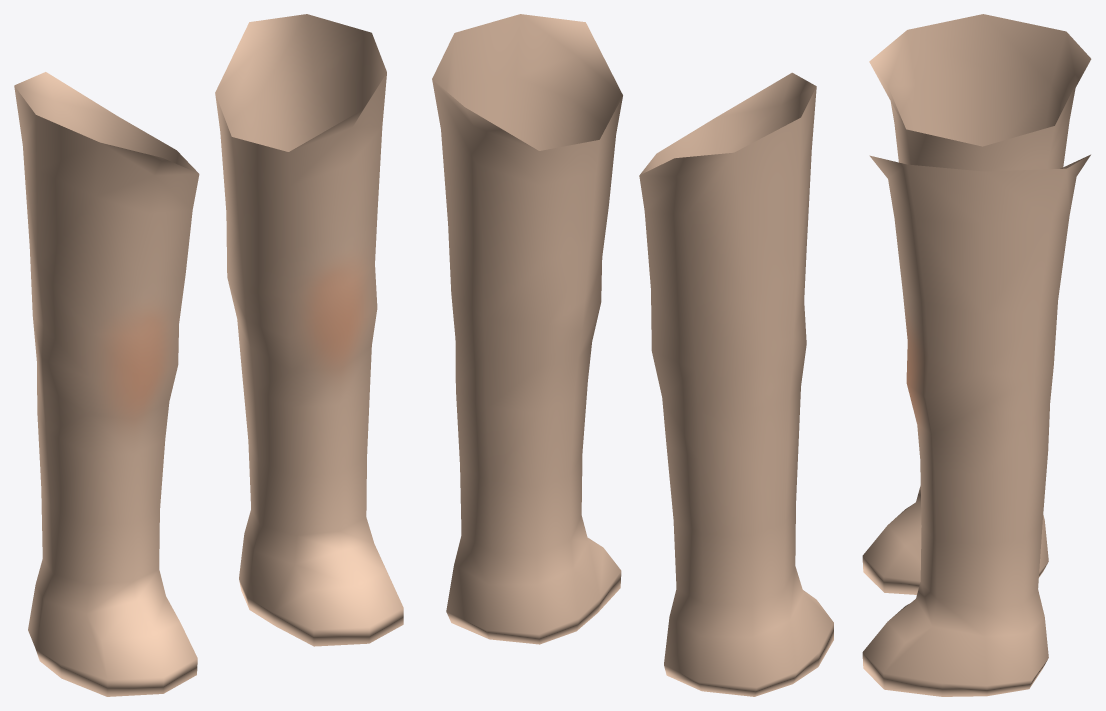
The model's file is Body_White_LegC_1.fbx.
3 renders of one model, left to right at view 1: azimuth 30°, elevation 25°; view 2: azimuth 150°, elevation 25°; view 3: azimuth 270°, elevation 25°, orthographic. The views are drawn at different scales.
Visible parts, largest first — view 1: Body_White_LegC_1; view 2: Body_White_LegC_1; view 3: Body_White_LegC_1.
Boxes of the visible parts, x1,y1,x2,y2 form: Body_White_LegC_1: [14, 14, 403, 696]; Body_White_LegC_1: [432, 14, 833, 696]; Body_White_LegC_1: [862, 14, 1091, 696].
Size of the model in its own units: 33.18 by 51.84 by 20.39.
